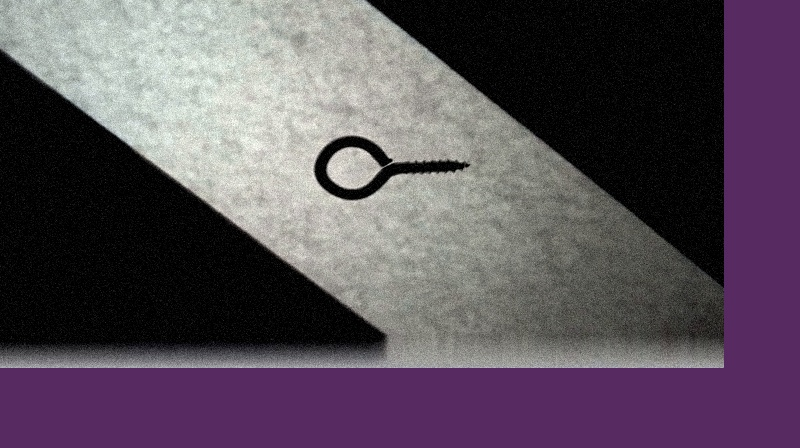O001: (311, 133, 471, 200)
